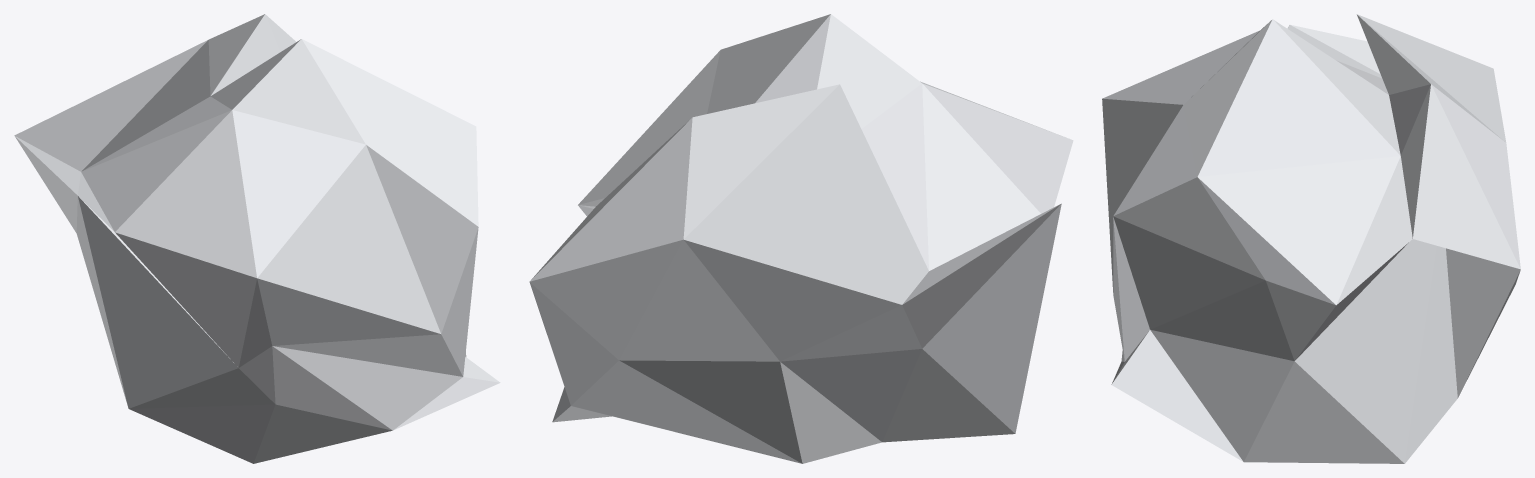
Rendered from 0_CPC_PaperWrinkled.fbx.
3 views of the same model, side by side, from view 1: azimuth 30°, elevation 25°; view 2: azimuth 150°, elevation 25°; view 3: azimuth 270°, elevation 25° (orthographic). The views are drawn at different scales.
Visible parts, largest first — view 1: Icosphere; view 2: Icosphere; view 3: Icosphere.
Boxes of the visible parts, x1,y1,x2,y2 form: Icosphere: [14, 14, 500, 463]; Icosphere: [529, 14, 1073, 463]; Icosphere: [1102, 14, 1520, 463].
Size of the model in its own units: 7.76 by 8.66 by 7.66.
